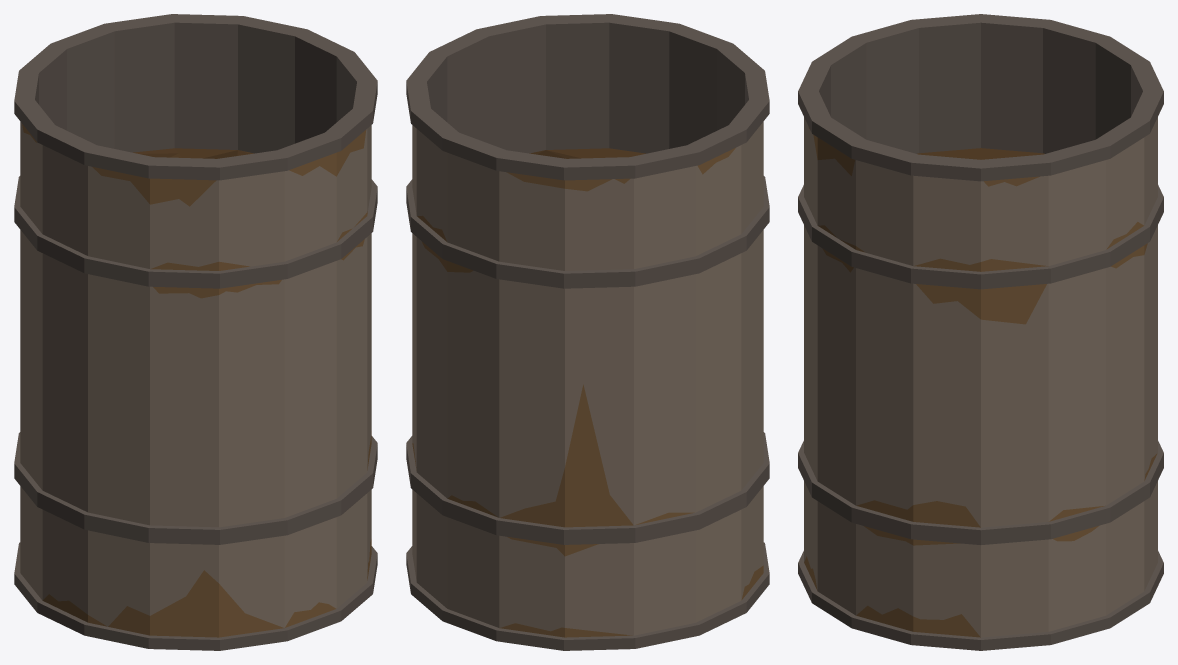
Rendered from Mesh_Props_Barrel_02.FBX.
3 renders of one model, left to right at view 1: azimuth 30°, elevation 25°; view 2: azimuth 150°, elevation 25°; view 3: azimuth 270°, elevation 25°, orthographic.
Parts seen in each view (by area): view 1: Mesh_Props_Barrel_02; view 2: Mesh_Props_Barrel_02; view 3: Mesh_Props_Barrel_02.
Boxes of the visible parts, x1,y1,x2,y2 form: Mesh_Props_Barrel_02: (14, 14, 377, 650); Mesh_Props_Barrel_02: (406, 14, 769, 650); Mesh_Props_Barrel_02: (798, 14, 1163, 650).
Size of the model in its own units: 24 by 34.9 by 24.
